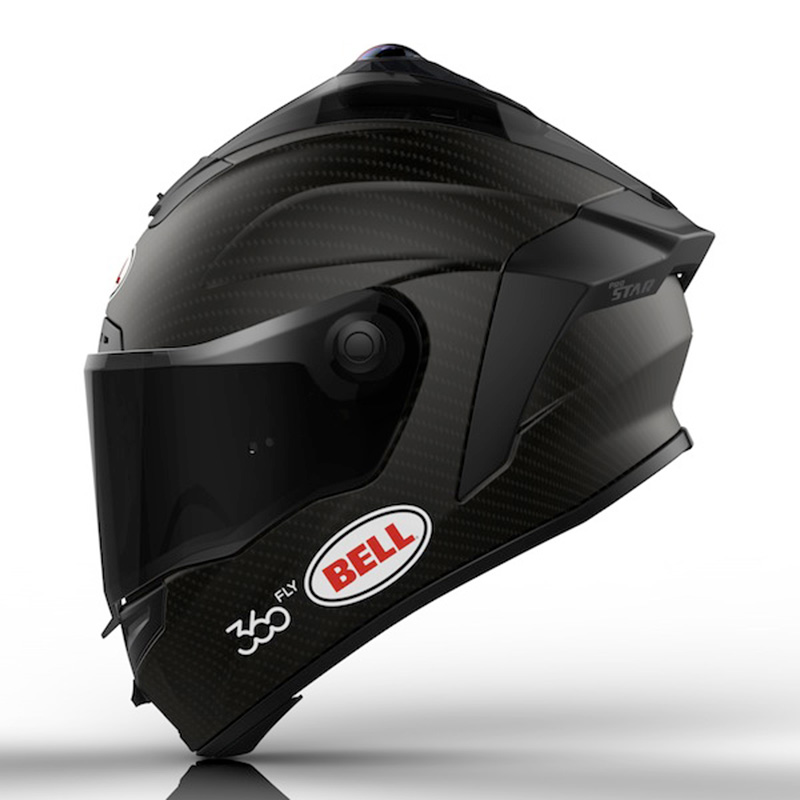Helmet: (65, 22, 727, 762)
